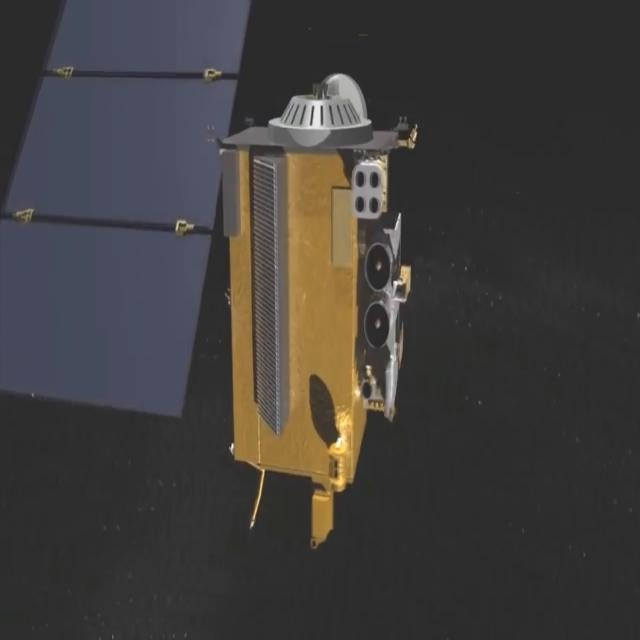satellite: (0, 0, 440, 640)
